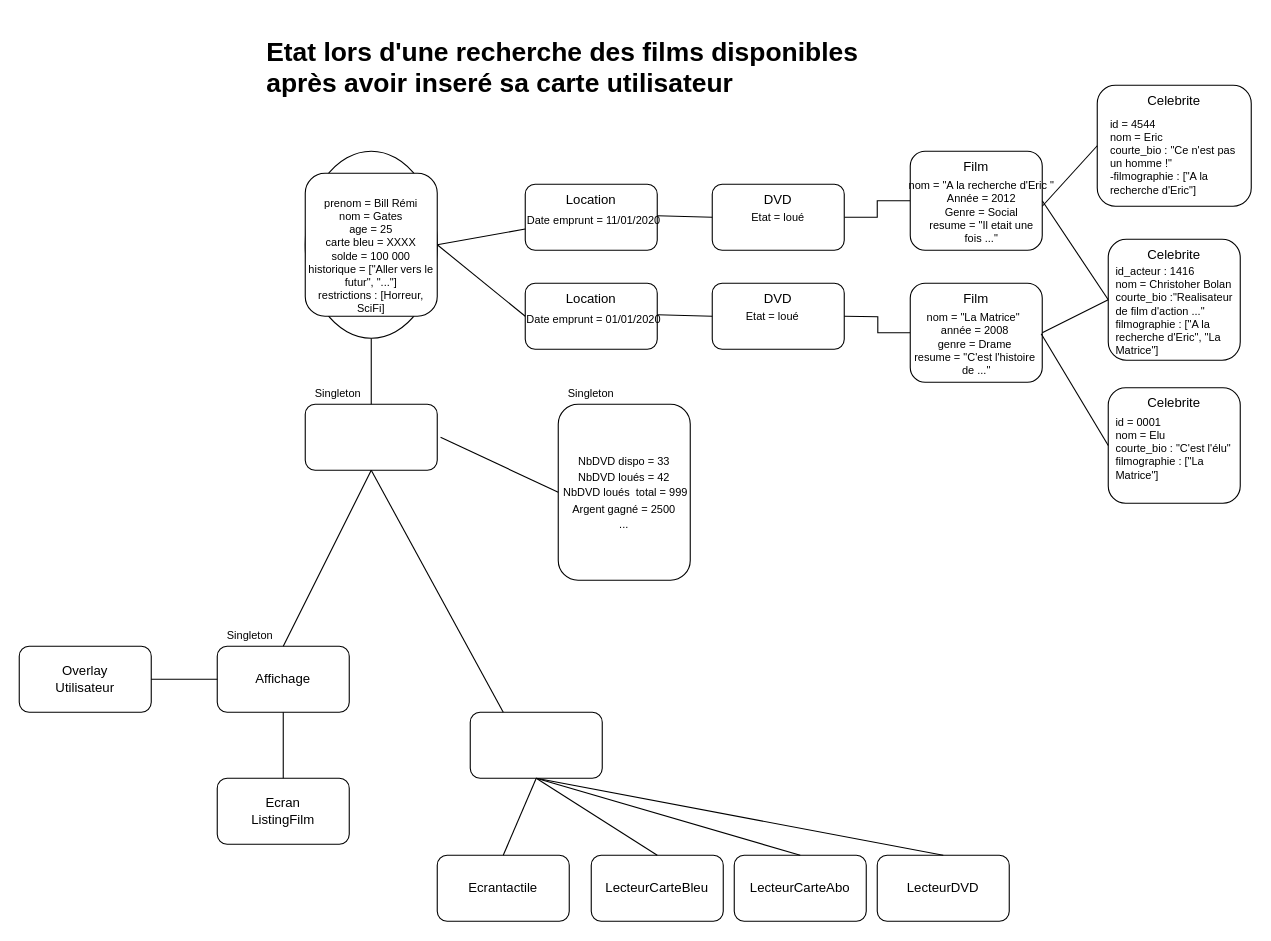
The diagram is 1271 pixels wide and 941 high, and some of its shapes have lost their labels. Each missing label, with the box of its shape:
Abonne: (304, 172, 437, 316)
Al2000Mediateur: (304, 403, 437, 470)
Controleur: (469, 711, 602, 778)
Statistique: (557, 403, 690, 580)
Utilisateur: (304, 150, 437, 338)
